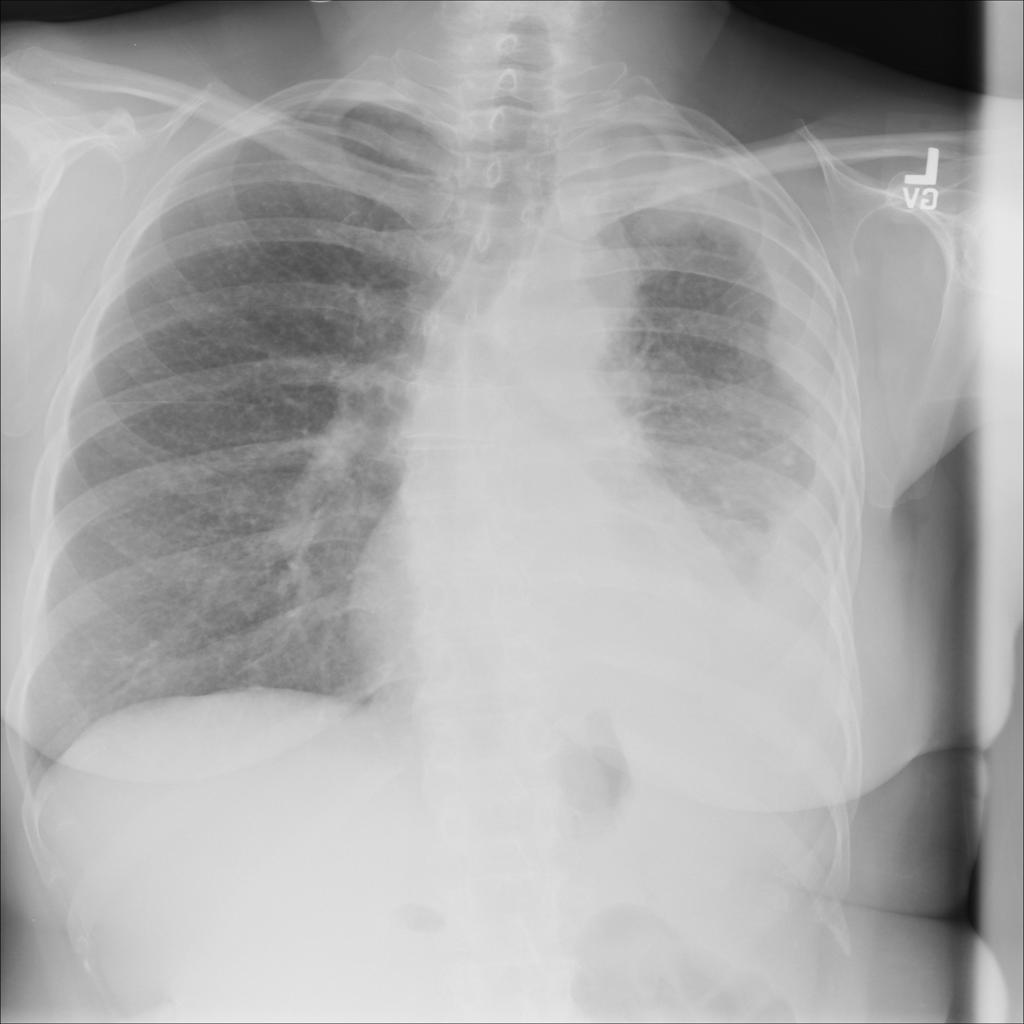nodule: (762, 437, 817, 483)
